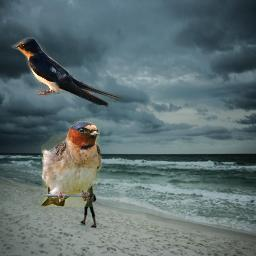Swallow: (10, 35, 124, 108), (40, 121, 103, 207)
